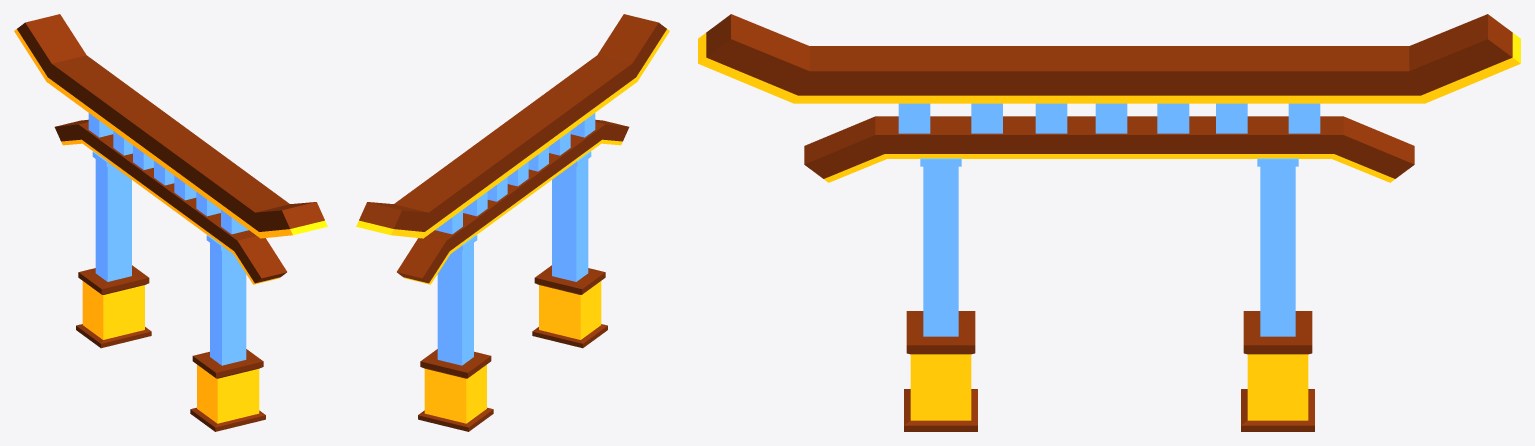
File: arch.fbx
3 renders of one model, left to right at view 1: azimuth 30°, elevation 25°; view 2: azimuth 150°, elevation 25°; view 3: azimuth 270°, elevation 25°, orthographic. The views are drawn at different scales.
Visible parts, largest first — view 1: Cube.017; view 2: Cube.017; view 3: Cube.017.
Boxes of the visible parts, bbox=[...] form: Cube.017: bbox=[14, 14, 327, 431]; Cube.017: bbox=[356, 14, 669, 431]; Cube.017: bbox=[698, 14, 1520, 431].
Size of the model in its own units: 27.49 by 136 by 262.
